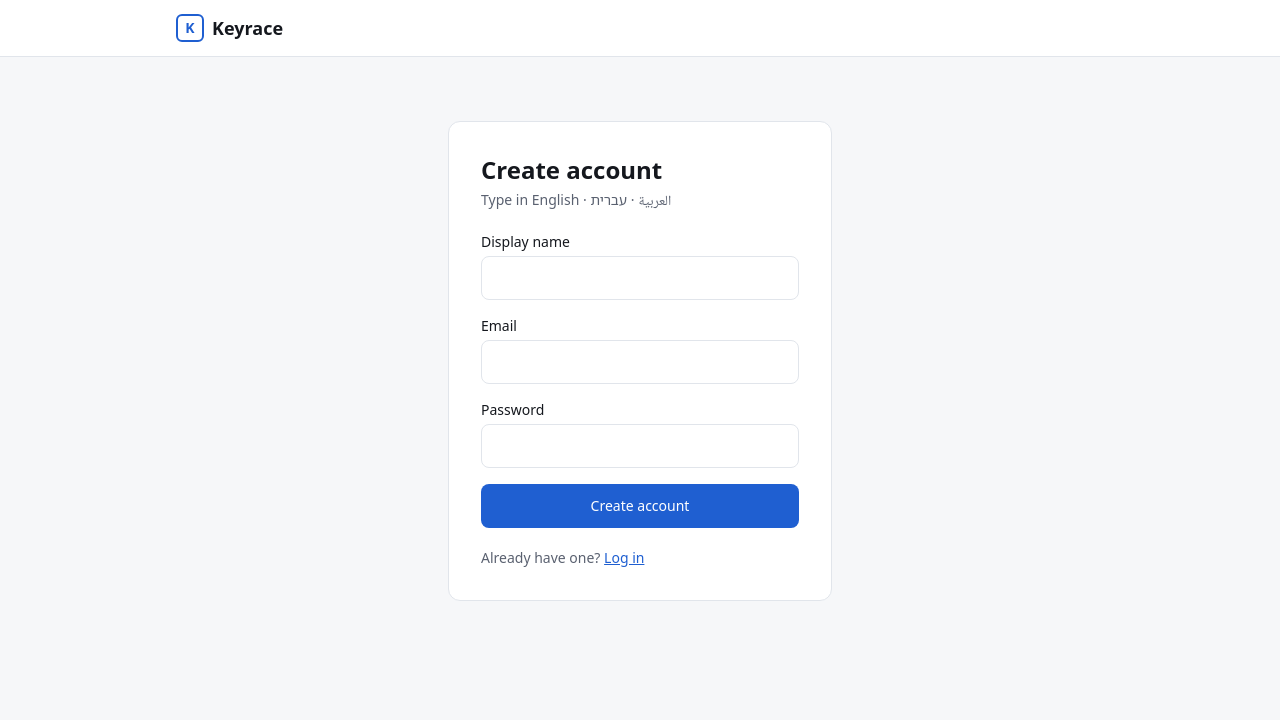
Test: auth flow › checks the register form before sending anything
Type "not-an-email" into the field labelled "Email".
click(640, 362); type("not-an-email")  # box [481,340,799,384]
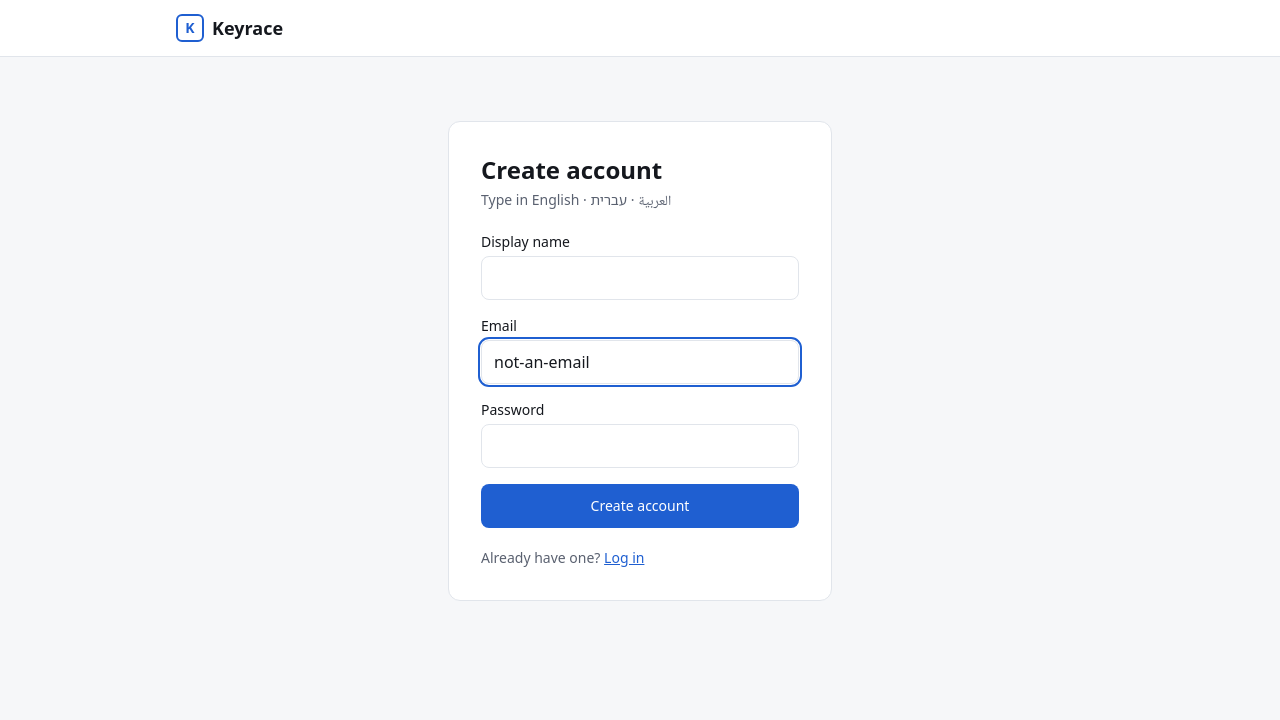
Type "short" into the password field labelled "Password".
click(640, 446); type("short")  # box [481,424,799,468]
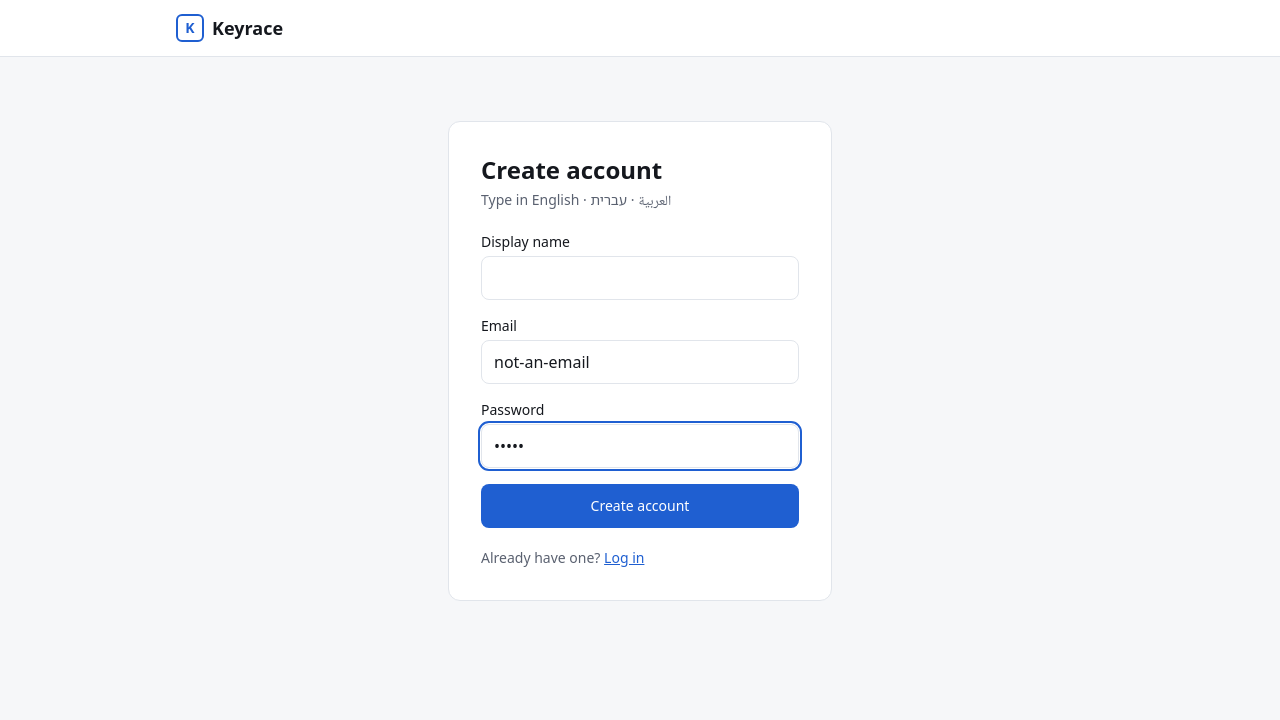
Click the button "Create account".
click(640, 506)  # box [481,484,799,528]
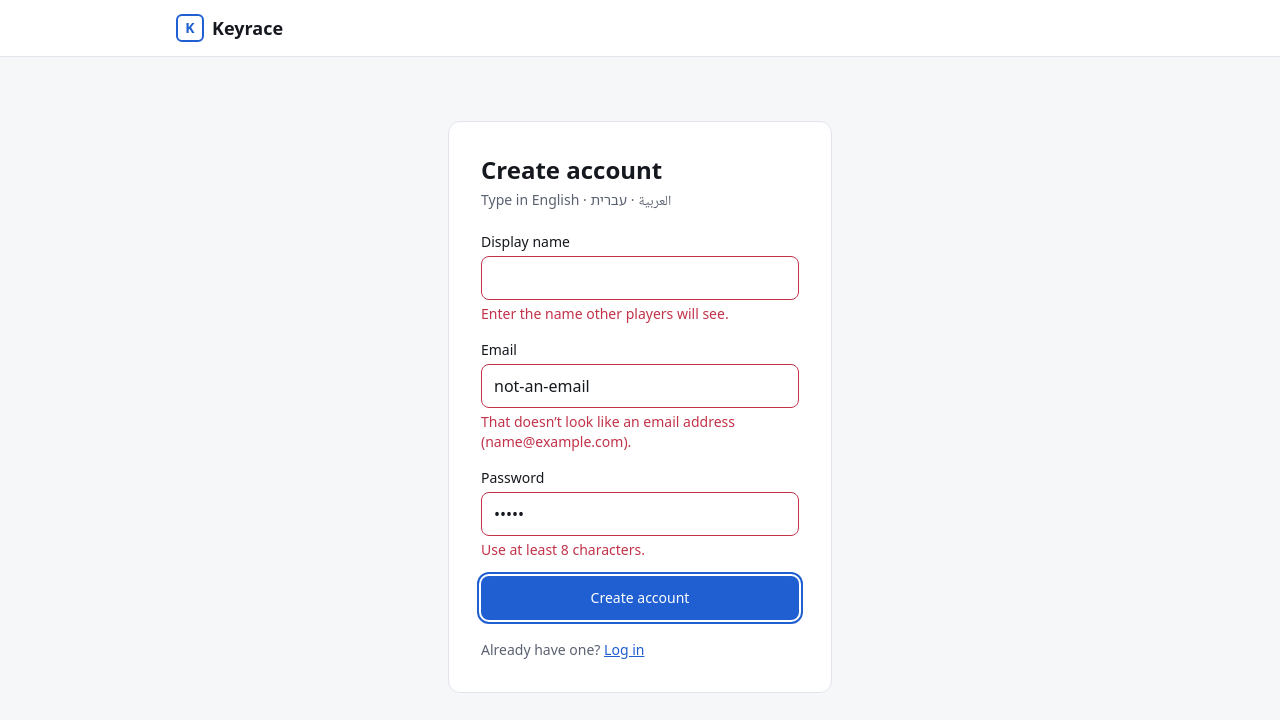
Now the messages read "Enter the name other players will see.", "That doesn’t look like an email address (name@example.com).", "Use at least 8 characters.", in this order, box [481,304,729,323]; [481,412,735,451]; [481,540,645,559]
